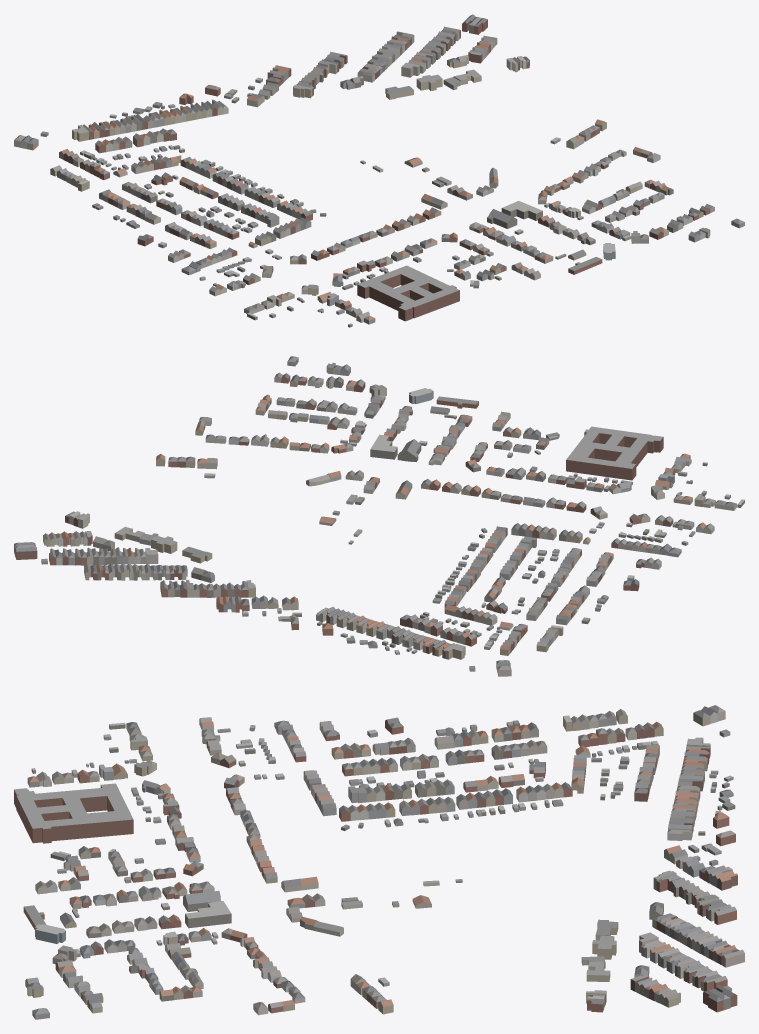
3 renders of one model, top to bottom at view 1: azimuth 30°, elevation 25°; view 2: azimuth 150°, elevation 25°; view 3: azimuth 270°, elevation 25°, orthographic. The views are drawn at different scales.
Parts seen in each view (by area): view 1: relation/3972807, way/601819942; view 2: relation/3972807; view 3: relation/3972807, way/601819942, way/447199014.
Part boxes in pixels (x1,y1,x2,y2): relation/3972807: [357, 265, 459, 321]; way/601819942: [501, 201, 542, 220]; relation/3972807: [566, 426, 663, 480]; relation/3972807: [14, 783, 133, 843]; way/601819942: [185, 901, 231, 928]; way/447199014: [183, 890, 220, 911].
Bounding box in the file's own units: 514 × 23.04 × 524.
